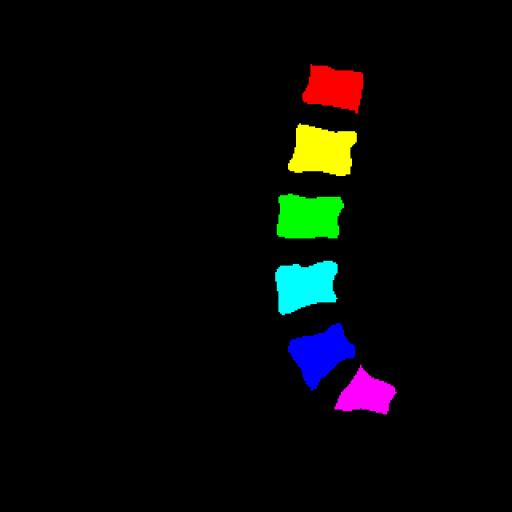L1: (302, 64, 363, 113)
L2: (288, 124, 357, 176)
L3: (277, 194, 344, 238)
L4: (275, 261, 338, 315)
L5: (288, 323, 355, 390)
S1: (335, 365, 396, 414)
